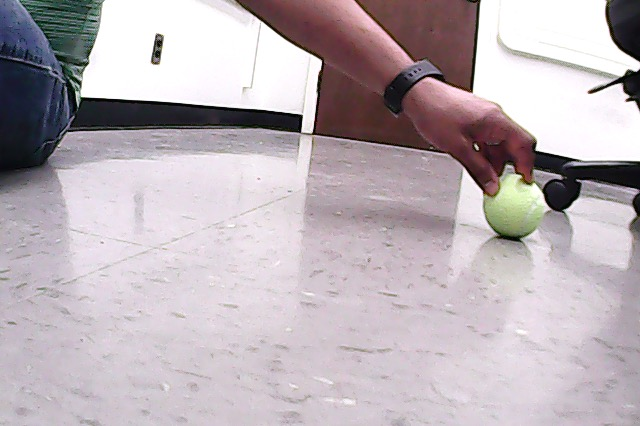ball: (480, 171, 547, 241)
